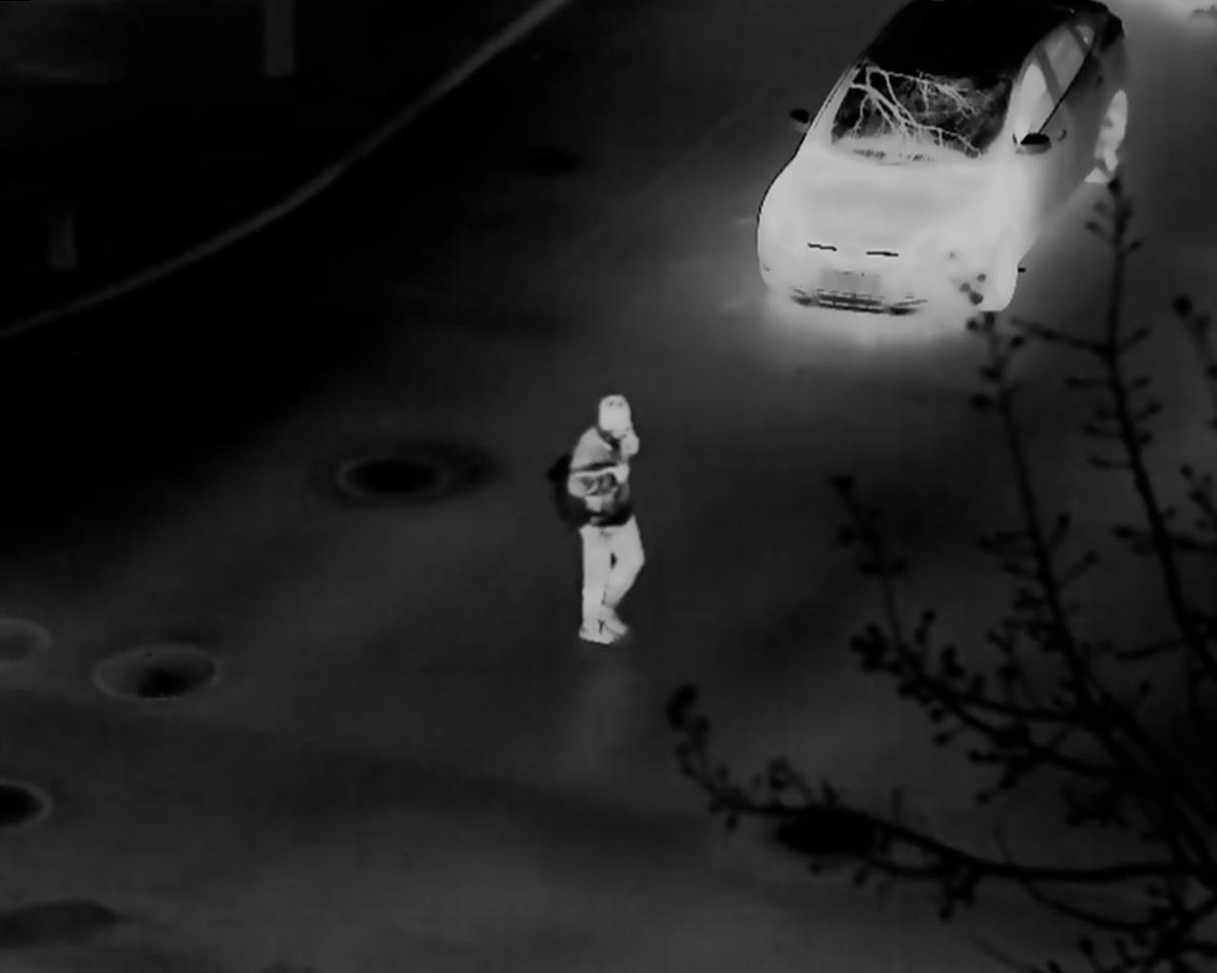person: (565, 392, 645, 646)
